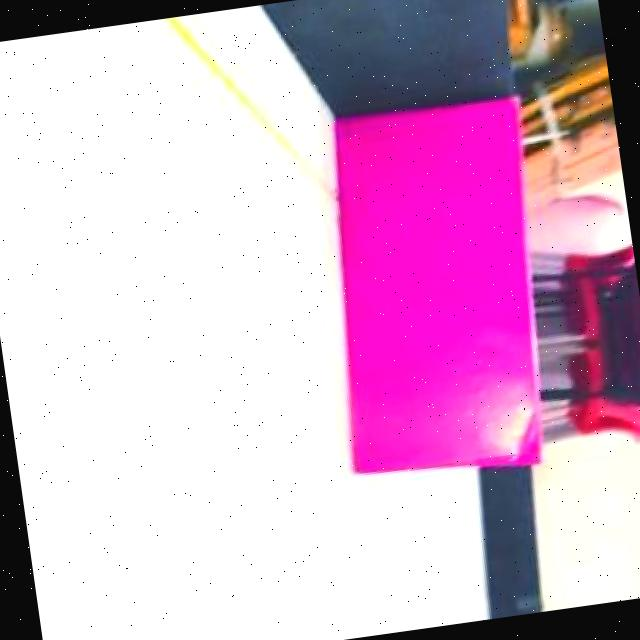xparking: (302, 102, 538, 493)
